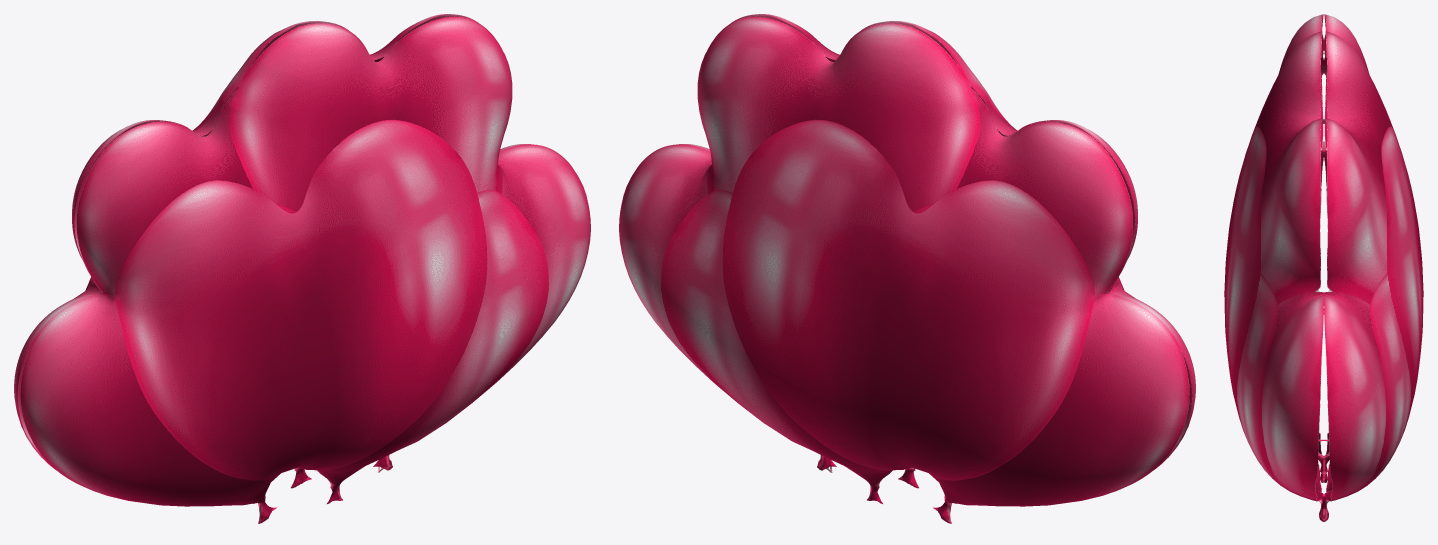
The picture shows the model from 3 angles, left to right: view 1: azimuth 30°, elevation 25°; view 2: azimuth 150°, elevation 25°; view 3: azimuth 270°, elevation 25°; orthographic projection. The views are drawn at different scales.
Visible parts, largest first — view 1: Слой_2; view 2: Слой_2; view 3: Слой_2.
Part boxes in pixels (x1,y1,x2,y2): Слой_2: (14, 14, 590, 523); Слой_2: (619, 14, 1195, 523); Слой_2: (1224, 14, 1423, 521).
Size of the model in its own units: 892 by 746 by 284.
Materials: 2 (2 with a texture image).
